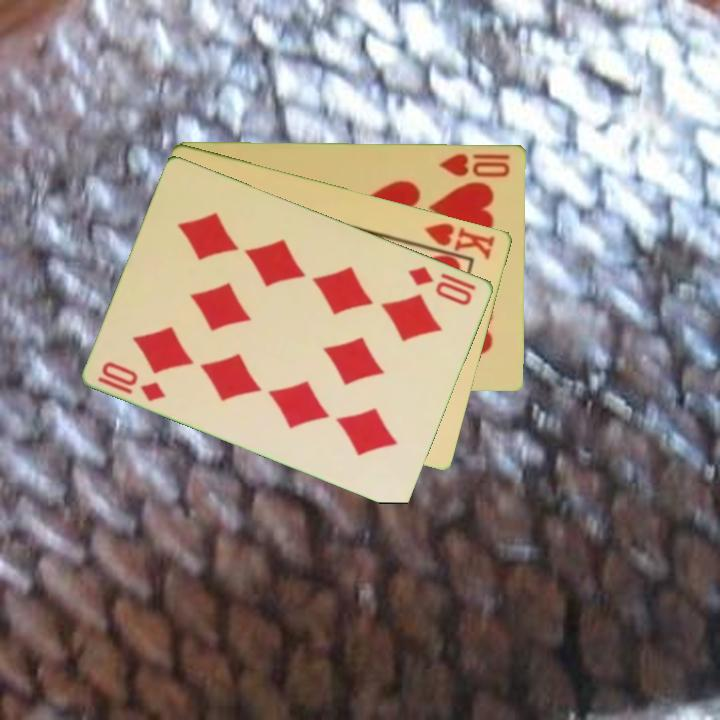10d: (94, 357, 169, 405), (405, 262, 476, 309)
10h: (436, 150, 513, 179)
Kh: (414, 219, 499, 262)
